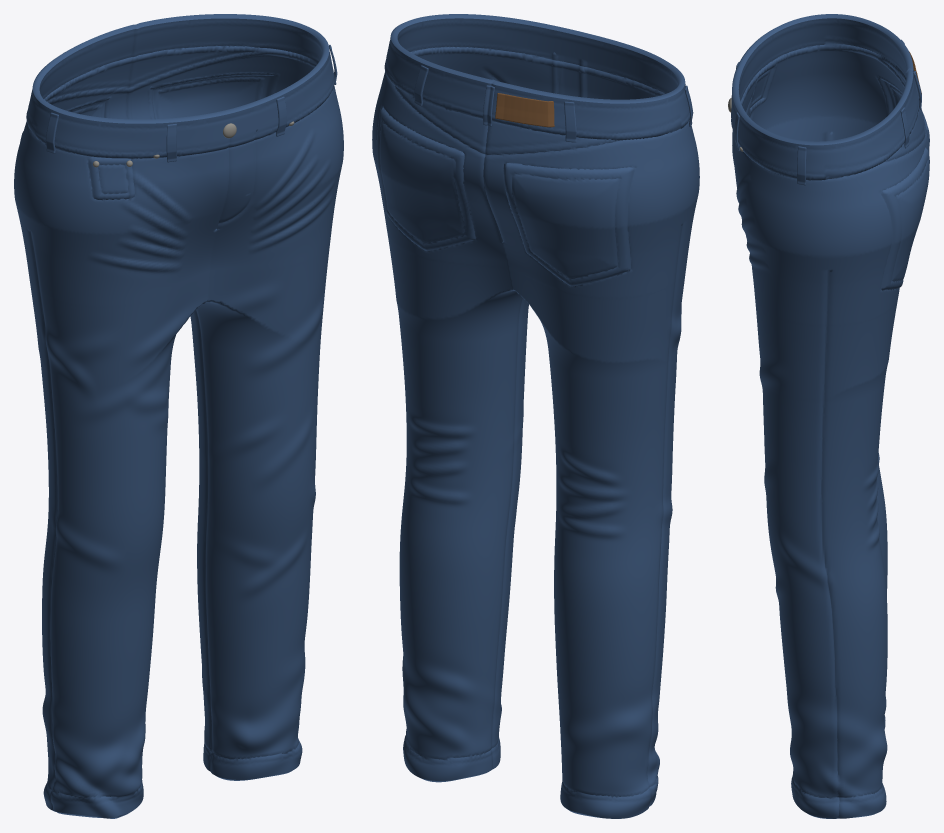
Rendered from 21_vaquero_skinny.glb.
3 views of the same model, side by side, from view 1: azimuth 30°, elevation 25°; view 2: azimuth 150°, elevation 25°; view 3: azimuth 270°, elevation 25° (orthographic). The views are drawn at different scales.
Parts seen in each view (by area): view 1: body; view 2: body, trim; view 3: body.
Boxes of the visible parts, x1,y1,x2,y2 form: body: (14,14,343,818); body: (372,14,699,818); trim: (495,93,554,127); body: (731,14,929,818).
Size of the model in its own units: 0.4075 by 0.9342 by 0.2438.
